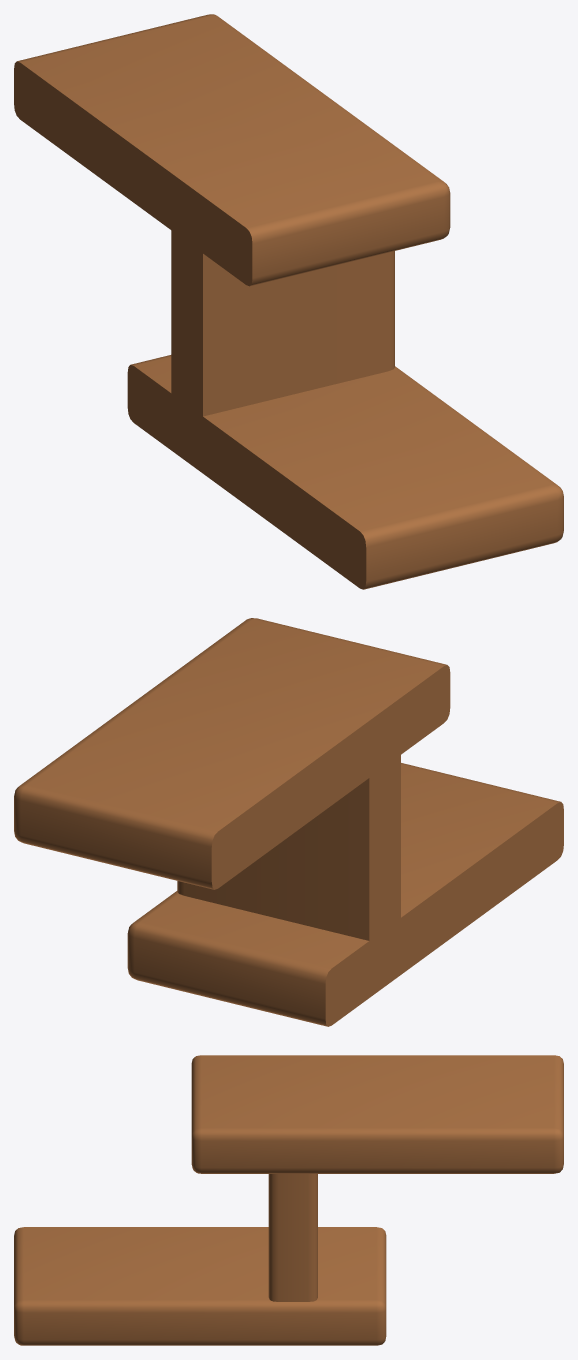
The model's file is Shelf_002.FBX.
3 renders of one model, top to bottom at view 1: azimuth 30°, elevation 25°; view 2: azimuth 150°, elevation 25°; view 3: azimuth 270°, elevation 25°, orthographic. The views are drawn at different scales.
Parts seen in each view (by area): view 1: Shelf_002; view 2: Shelf_002; view 3: Shelf_002.
Part boxes in pixels (bbox=[...]): Shelf_002: bbox=[14, 14, 563, 589]; Shelf_002: bbox=[14, 618, 563, 1026]; Shelf_002: bbox=[14, 1055, 563, 1345].
Bounding box in the file's own units: 7.18 × 9.43 × 21.7.
